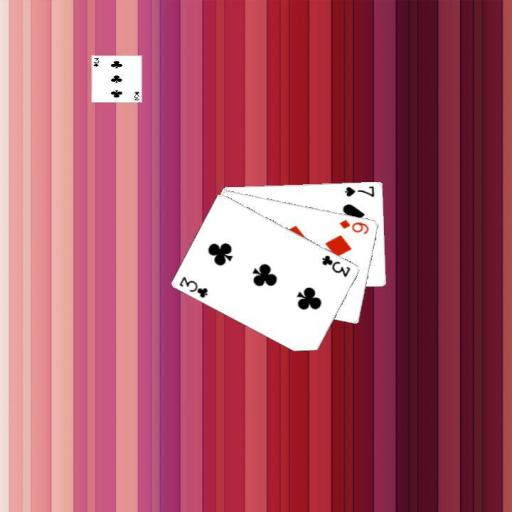3C: (319, 252, 352, 279), (176, 273, 210, 299)
6D: (337, 217, 371, 236)
7S: (342, 183, 376, 198)
